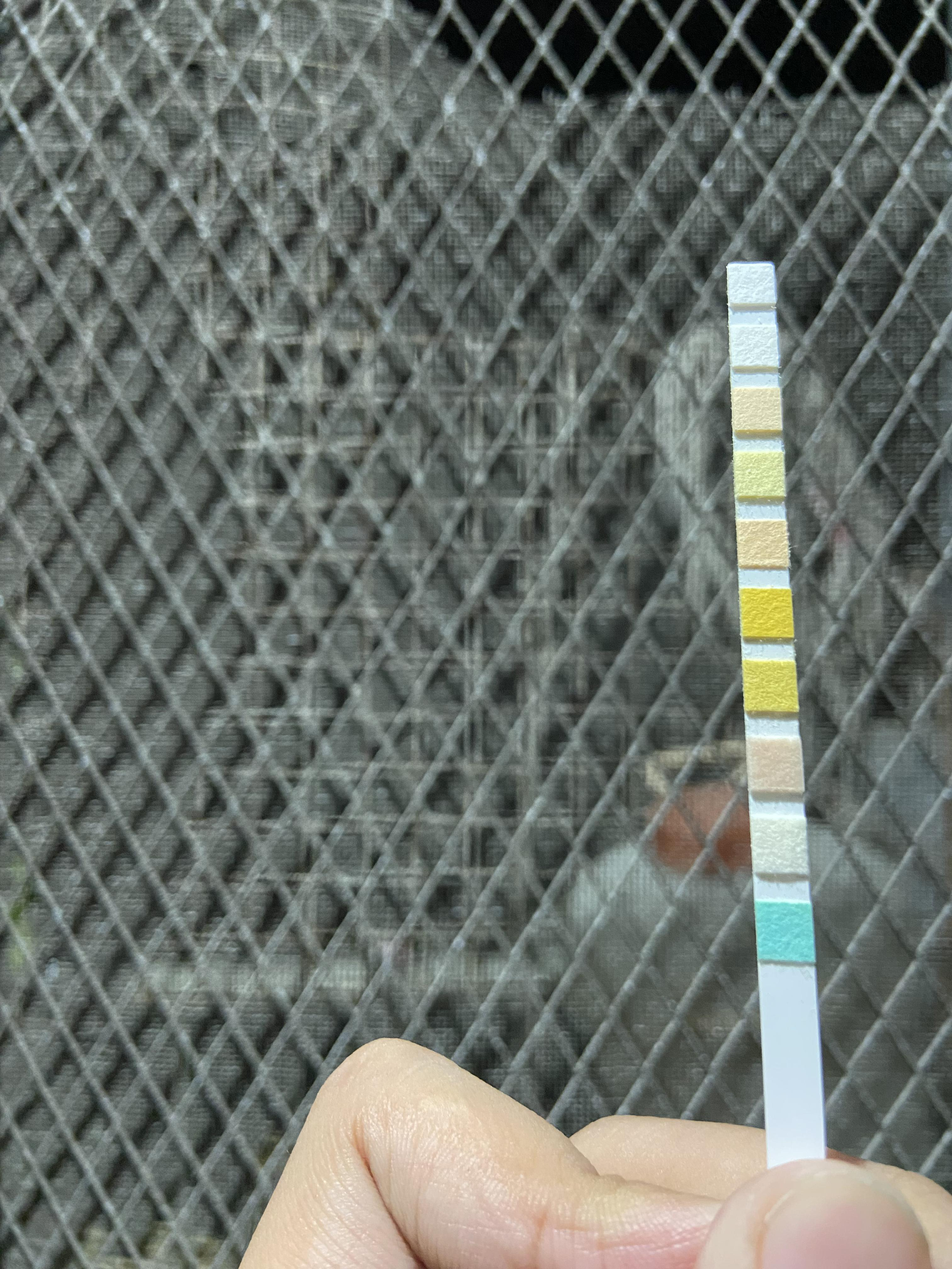Bilirubin: (754, 818, 807, 874)
Blood: (743, 589, 792, 635)
Glucose: (759, 902, 811, 962)
Ketone: (750, 739, 801, 789)
Leukocytes: (729, 266, 776, 304)
Nitrite: (731, 327, 778, 368)
Protein: (736, 454, 784, 495)
SpGravity: (746, 662, 797, 710)
Urobilinogen: (733, 390, 780, 429)
pH: (738, 521, 789, 566)
strip: (728, 263, 827, 1155)
